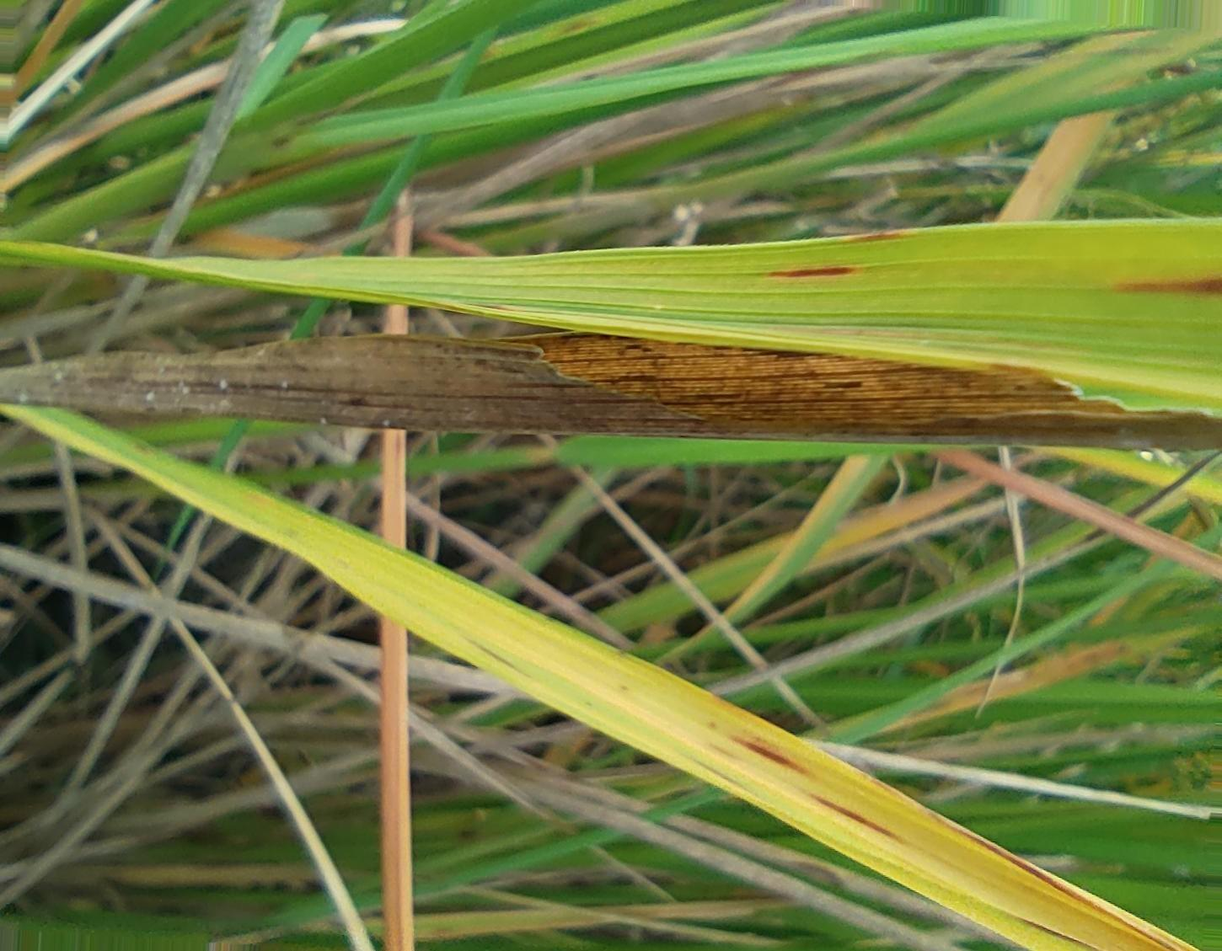LEAF: (0, 221, 1221, 417)
NBS: (1108, 277, 1221, 294), (766, 265, 865, 279), (843, 229, 914, 242)
